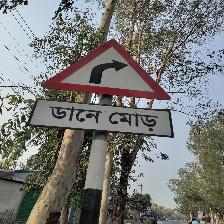Right-turn: (33, 39, 175, 141)
